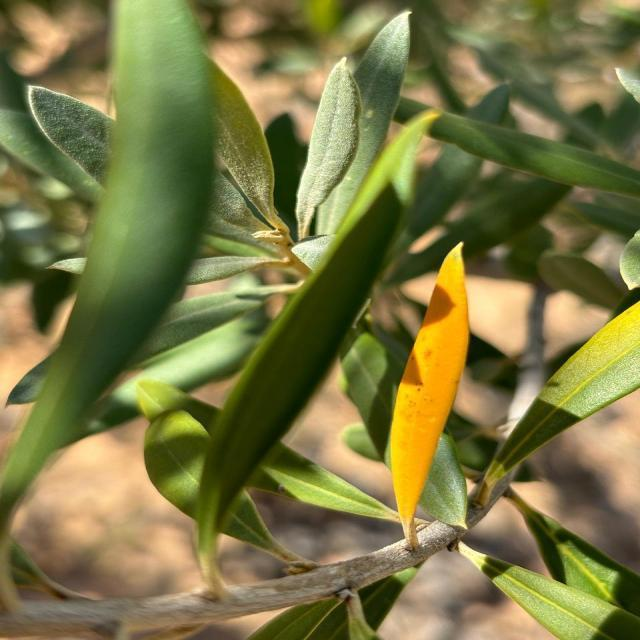OlivePeacockSpot: (390, 242, 469, 548)
